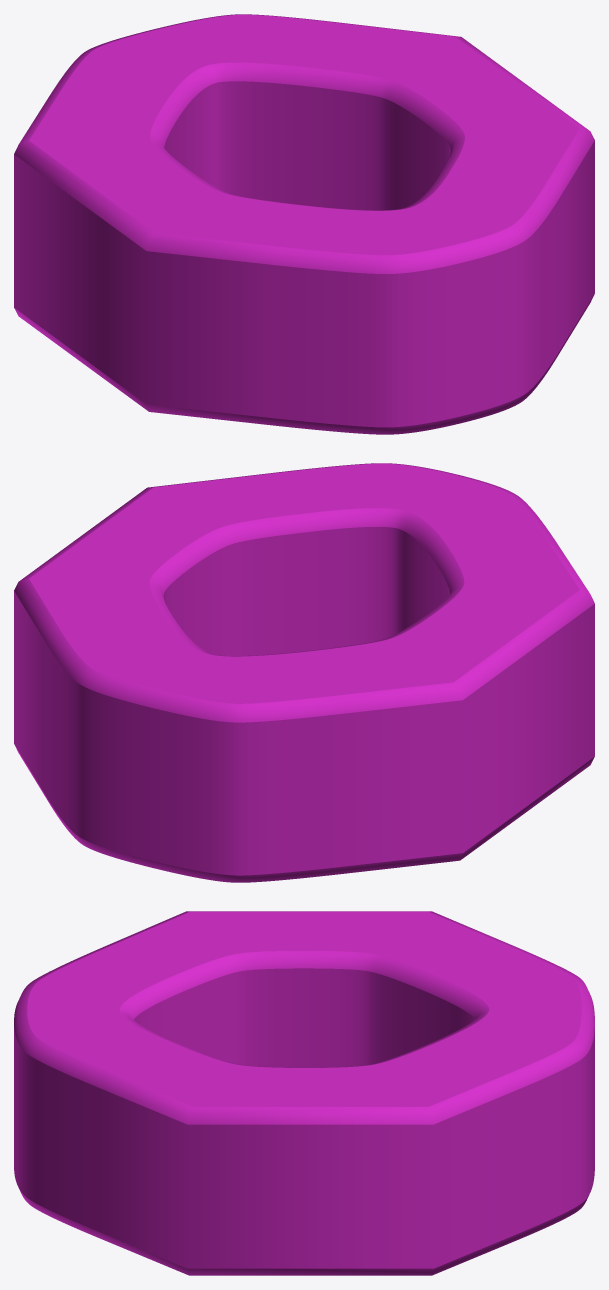
Rendered from Letter_o_Small.fbx.
3 renders of one model, top to bottom at view 1: azimuth 30°, elevation 25°; view 2: azimuth 150°, elevation 25°; view 3: azimuth 270°, elevation 25°, orthographic. The views are drawn at different scales.
Parts seen in each view (by area): view 1: Letter_o; view 2: Letter_o; view 3: Letter_o.
Boxes of the visible parts, bbox=[...] form: Letter_o: bbox=[14, 14, 594, 434]; Letter_o: bbox=[14, 463, 594, 882]; Letter_o: bbox=[14, 911, 594, 1275].
Size of the model in its own units: 0.3687 by 0.14 by 0.4385.
